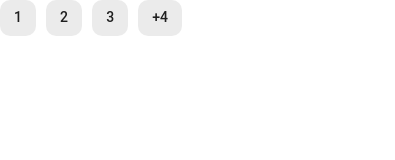
App chip list › displays all chips when popover is opened
Expected: the text "1" is shown, [14, 7, 22, 29]
Expected: the text "2" is shown, [60, 7, 68, 29]
Click the element with test id "amount-of-chips" at (160, 18), box [138, 0, 182, 36]
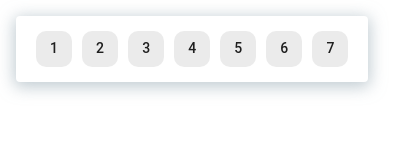
Expected: the text "5" is shown, [234, 38, 242, 60]
Expected: the text "6" is shown, [280, 38, 288, 60]
Expected: the text "7" is shown, [326, 38, 334, 60]
